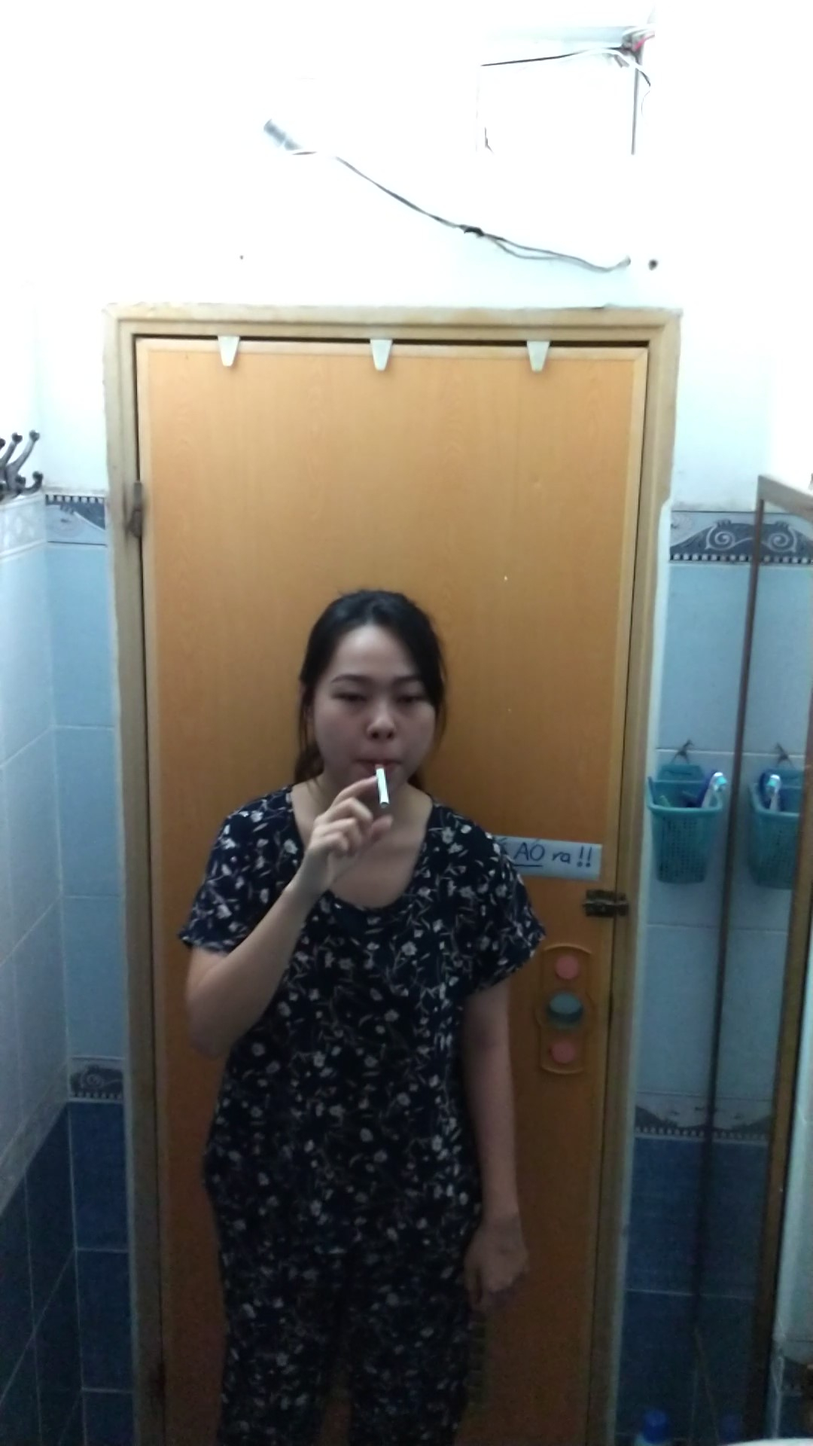cigarette: (371, 765, 394, 813)
person: (178, 584, 553, 1444)
